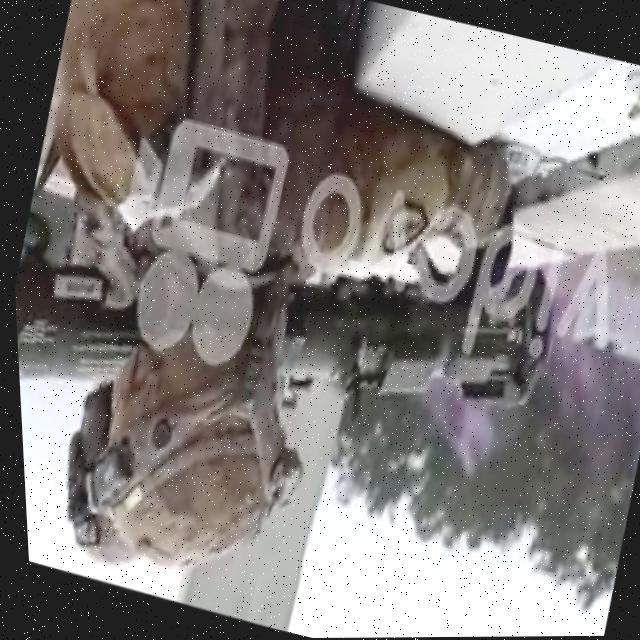rocket: (6, 132, 569, 516)
